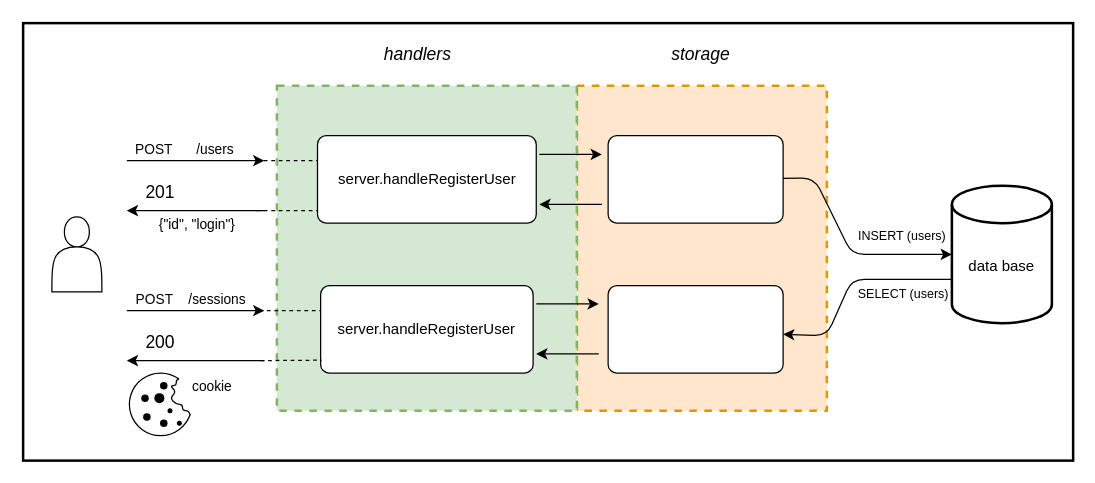
Some shapes in this 1095 by 483 pixel diagram are drawn without their labels. Here are the shapes that lost their labels. From the top down, the centre of each, then its label:
At pixel 695 178: "store.CreateUser".
At pixel 695 328: "store.FindUserByLogin".
